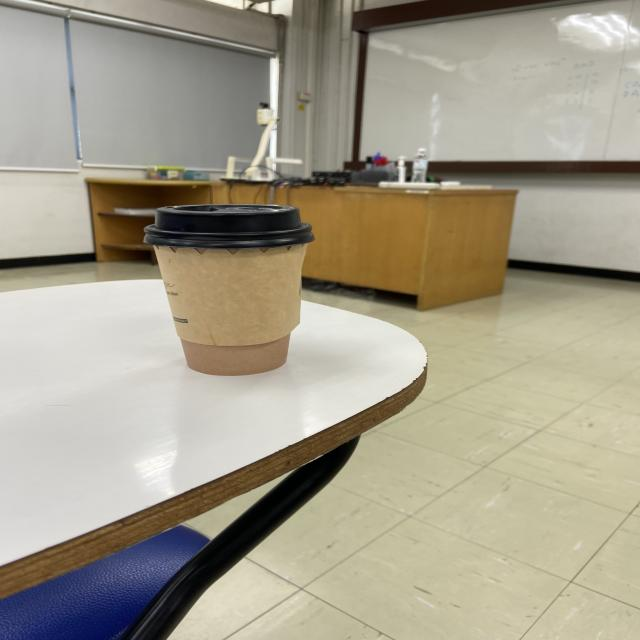cup: (141, 202, 317, 375)
